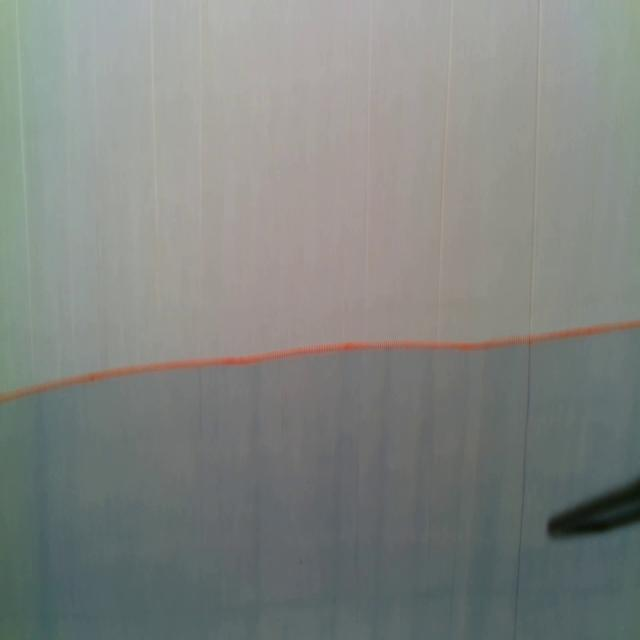crease: (510, 2, 542, 640), (15, 0, 36, 385), (434, 3, 456, 338), (362, 3, 376, 282), (195, 5, 205, 358), (146, 0, 160, 240)
